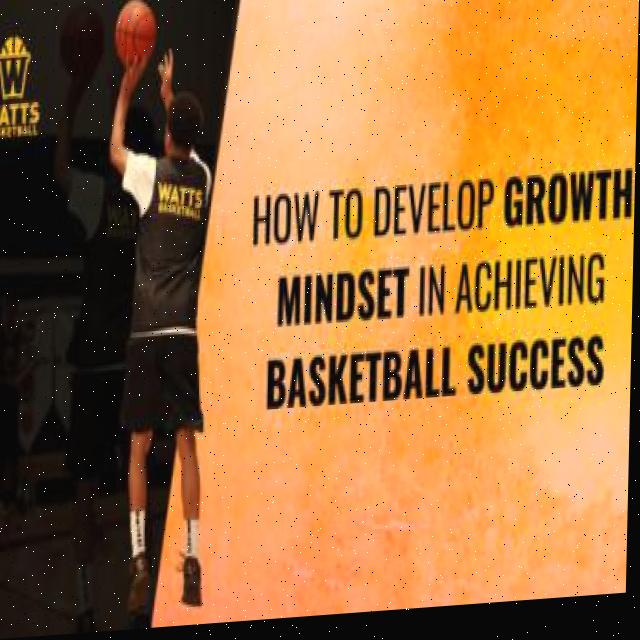basketball: (113, 0, 157, 69)
